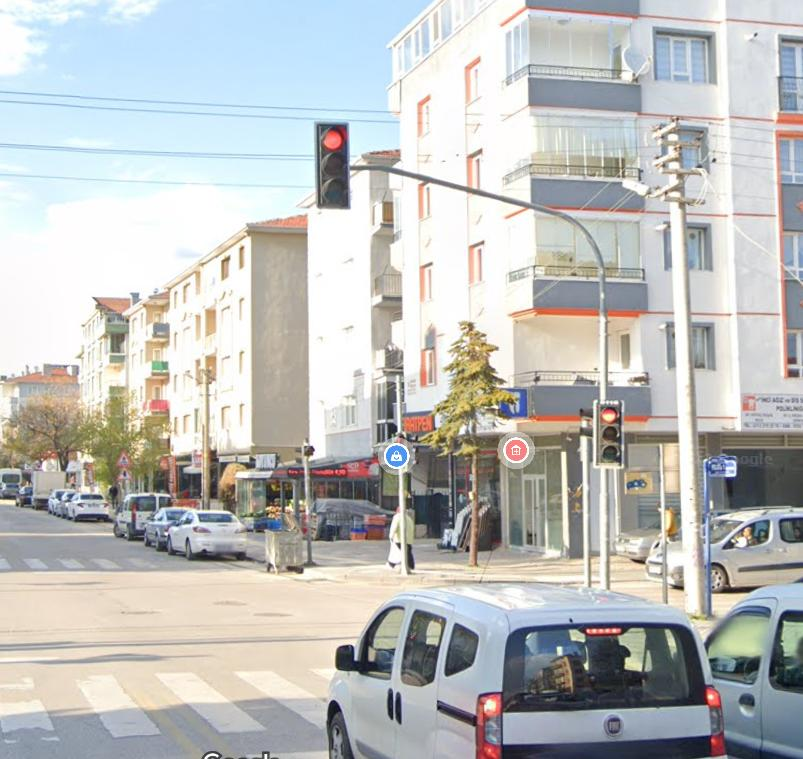redlight: (318, 123, 348, 206), (594, 401, 623, 462)
